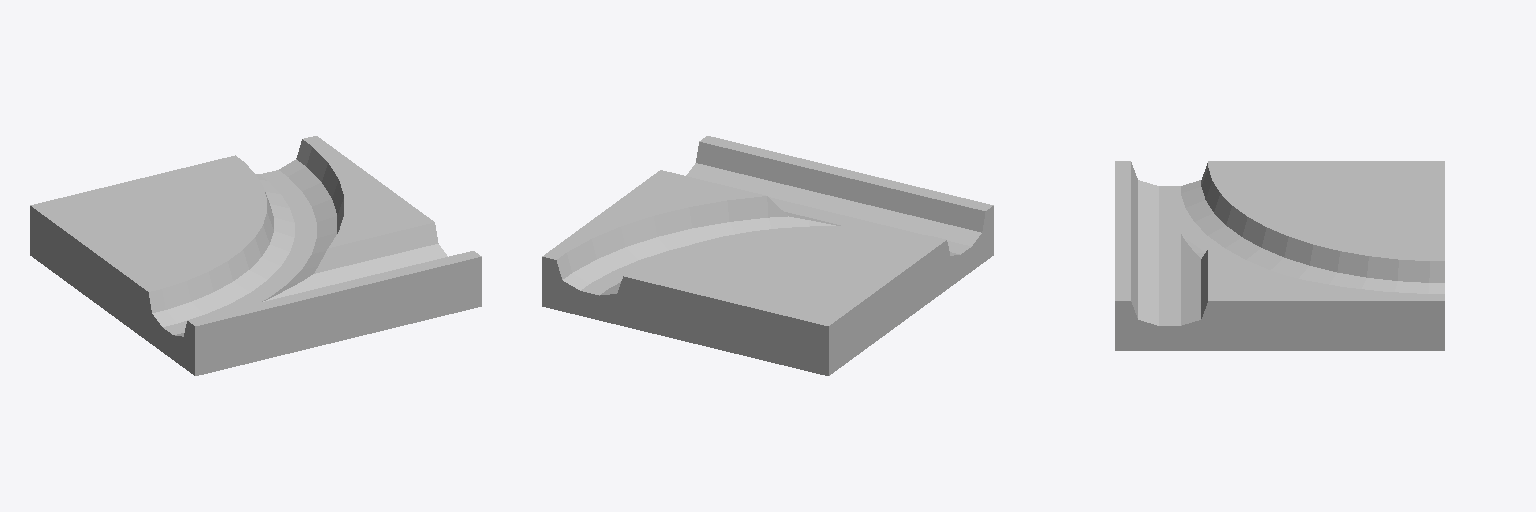
File: split-large-solid-left.obj
3 renders of one model, left to right at view 1: azimuth 30°, elevation 25°; view 2: azimuth 150°, elevation 25°; view 3: azimuth 270°, elevation 25°, orthographic.
Visible parts, largest first — view 1: split-large-solid-left; view 2: split-large-solid-left; view 3: split-large-solid-left.
Boxes of the visible parts, x1,y1,x2,y2 form: split-large-solid-left: [30, 136, 481, 375]; split-large-solid-left: [542, 136, 993, 375]; split-large-solid-left: [1115, 161, 1444, 350].
Bounding box in the file's own units: 3 × 0.5 × 3.